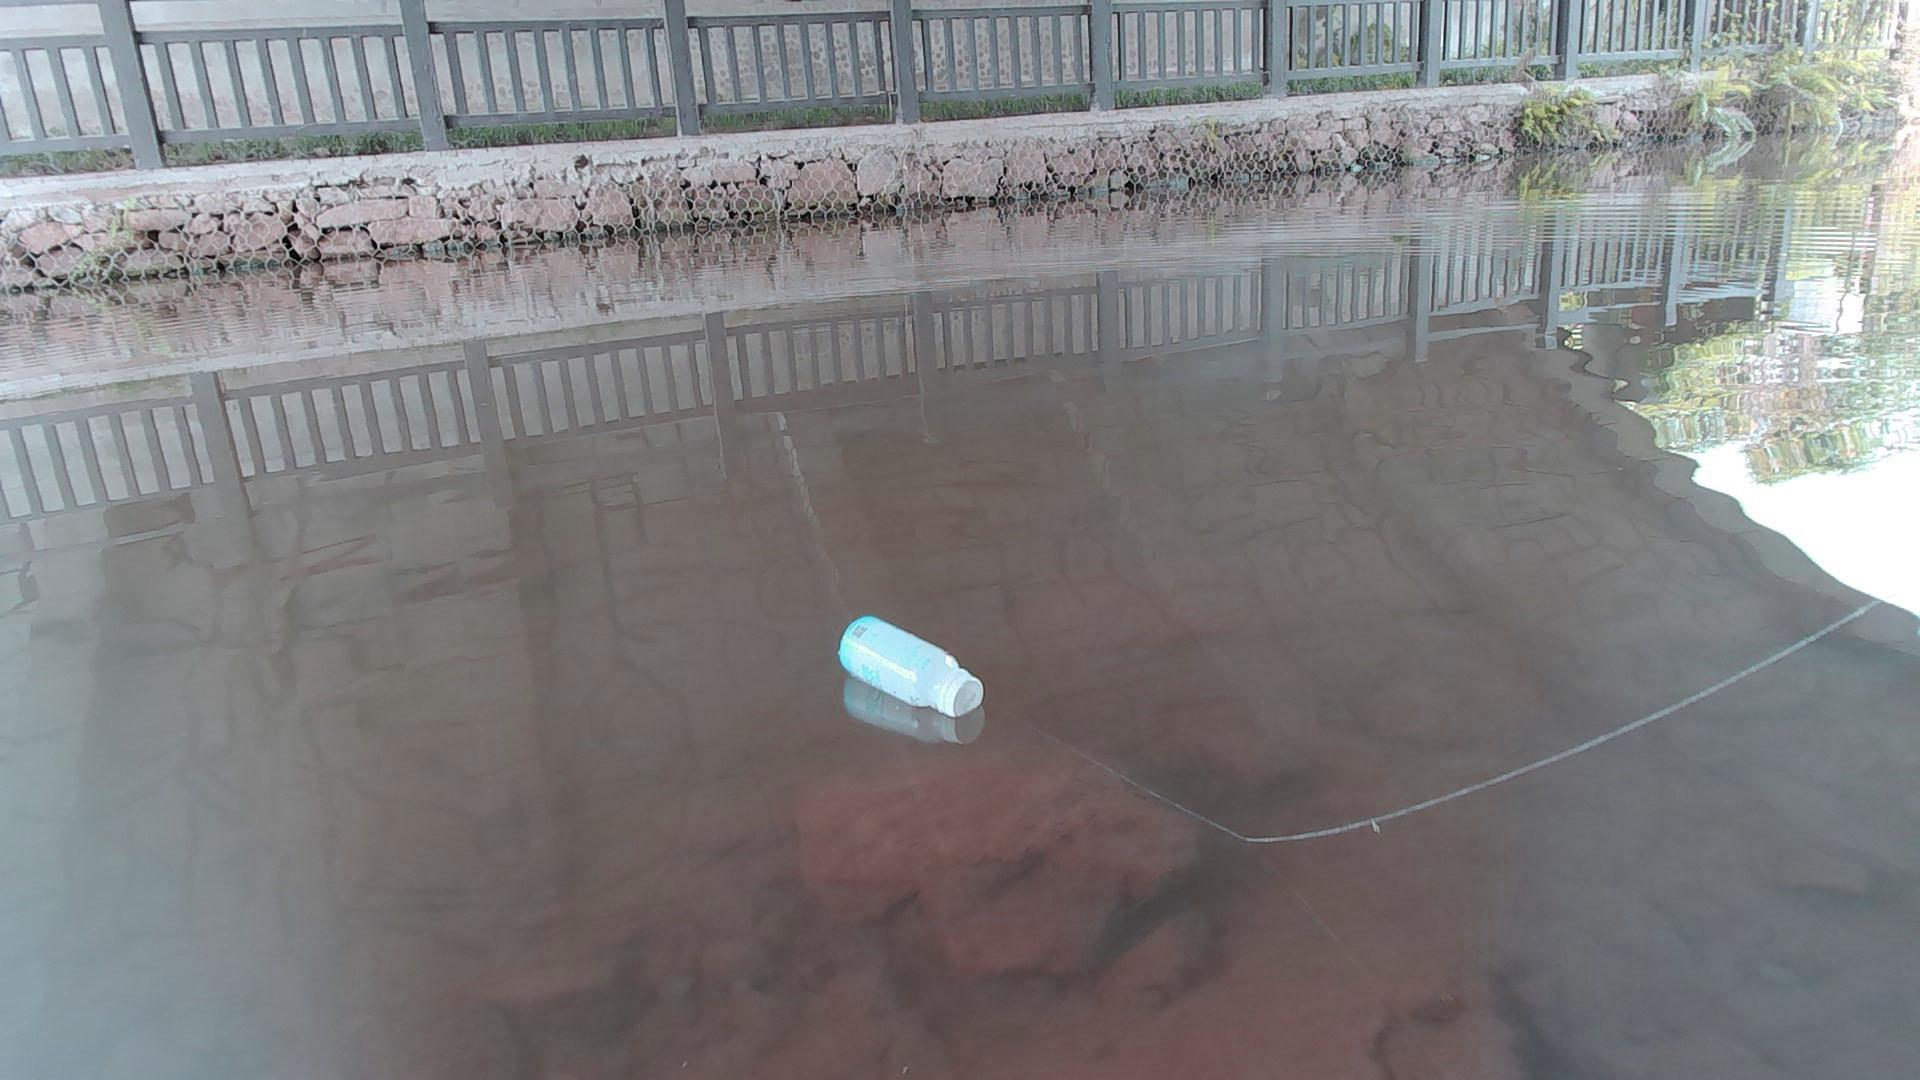Plastic: (837, 609, 989, 717)
